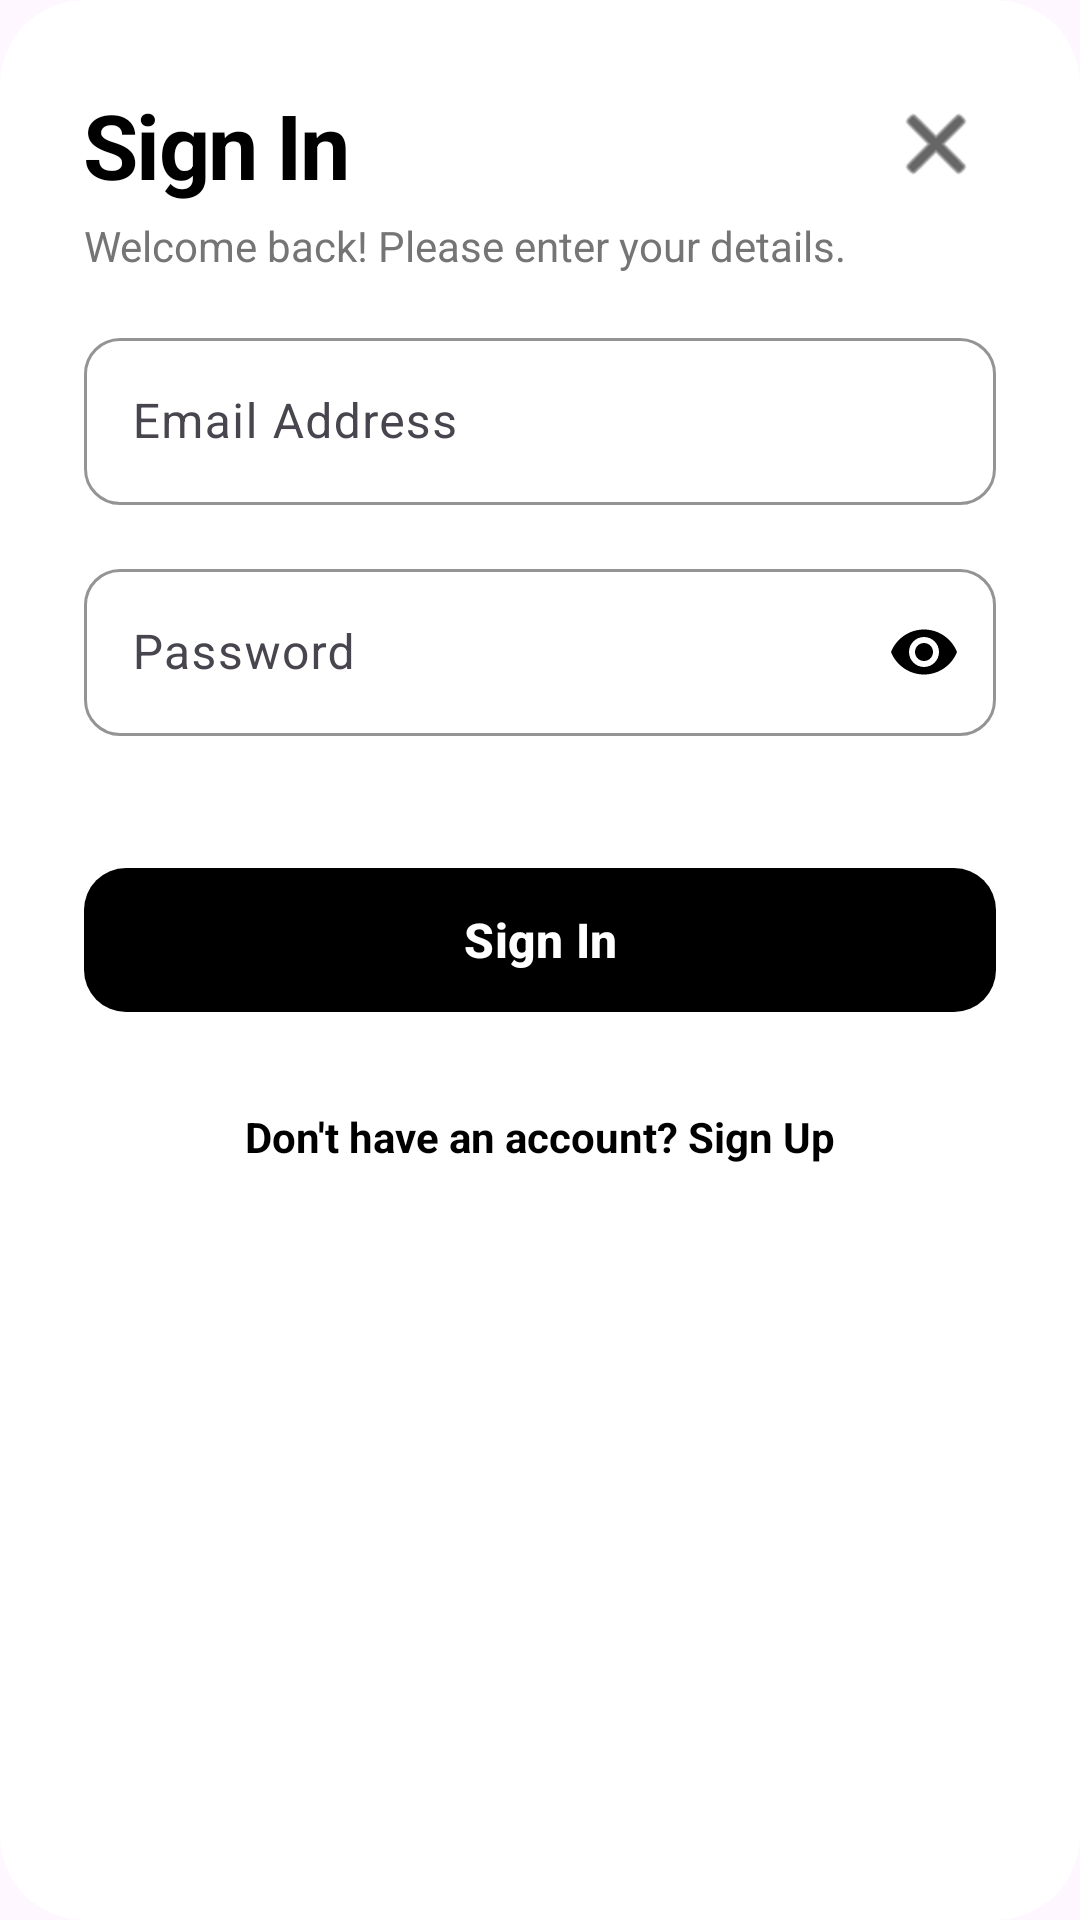

Icons on this 1080px×1920px Android screen, each with the point to tap as [x,y]:
close clear cancel: [936,144]
